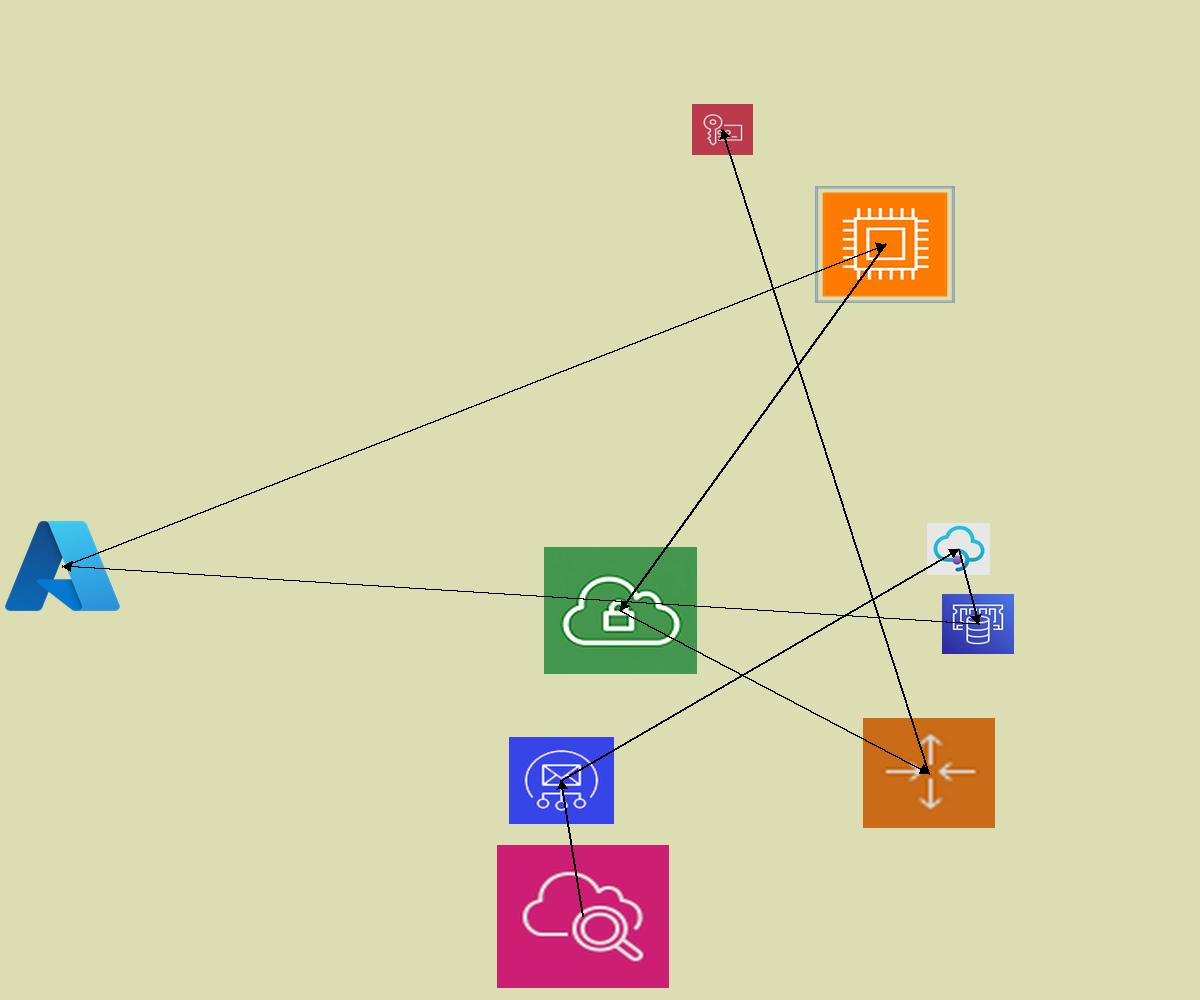AWS-Category_Compute: (815, 186, 955, 303)
AWS-CloudWatch: (497, 845, 669, 988)
AWS-ElastiCache: (942, 594, 1014, 654)
AWS-Key-Management-Service: (692, 104, 753, 155)
AWS-Private_vpc: (544, 547, 697, 674)
AWS-Scaling-group: (863, 718, 995, 828)
AWS-Simple-Email-Service: (509, 737, 614, 824)
Azure_api_gateway: (927, 523, 990, 575)
Azure_services: (0, 514, 125, 618)
